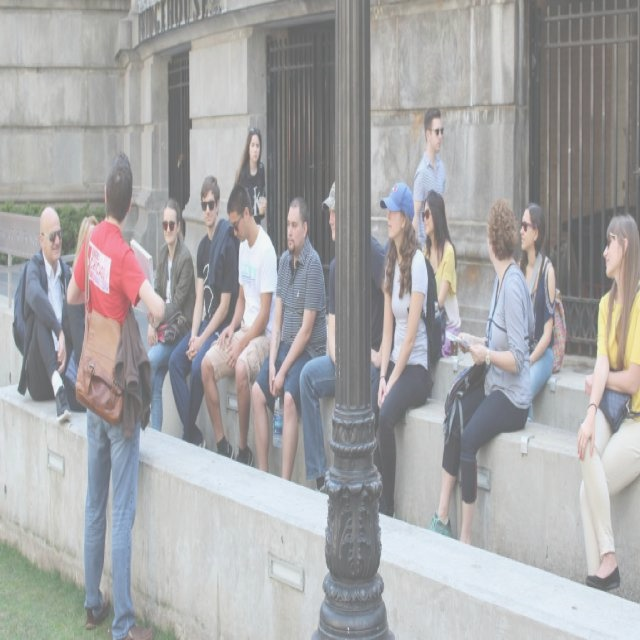pessoa: (64, 146, 168, 639), (427, 196, 532, 546), (298, 178, 388, 500), (574, 210, 640, 638), (369, 180, 443, 520), (248, 193, 328, 484), (200, 181, 280, 468), (168, 170, 234, 446), (16, 202, 75, 428), (146, 197, 197, 436), (516, 199, 558, 404), (62, 214, 100, 416), (422, 187, 462, 361), (411, 105, 448, 252), (233, 126, 268, 227)
